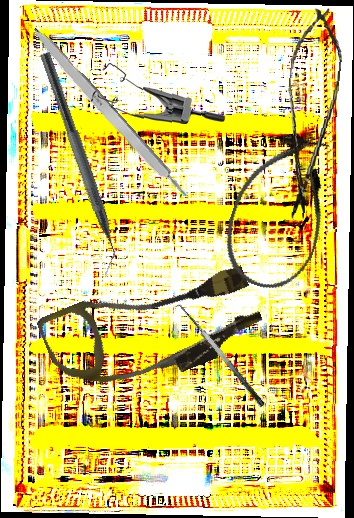Cannula: (35, 241, 270, 416), (212, 122, 348, 300)
Chopper: (24, 50, 130, 279)
Micro Scissor: (274, 0, 348, 226)
Scalpel Handle: (27, 24, 191, 204)
Spatula Surgical: (170, 299, 266, 415)
Speculum: (88, 58, 227, 128)
